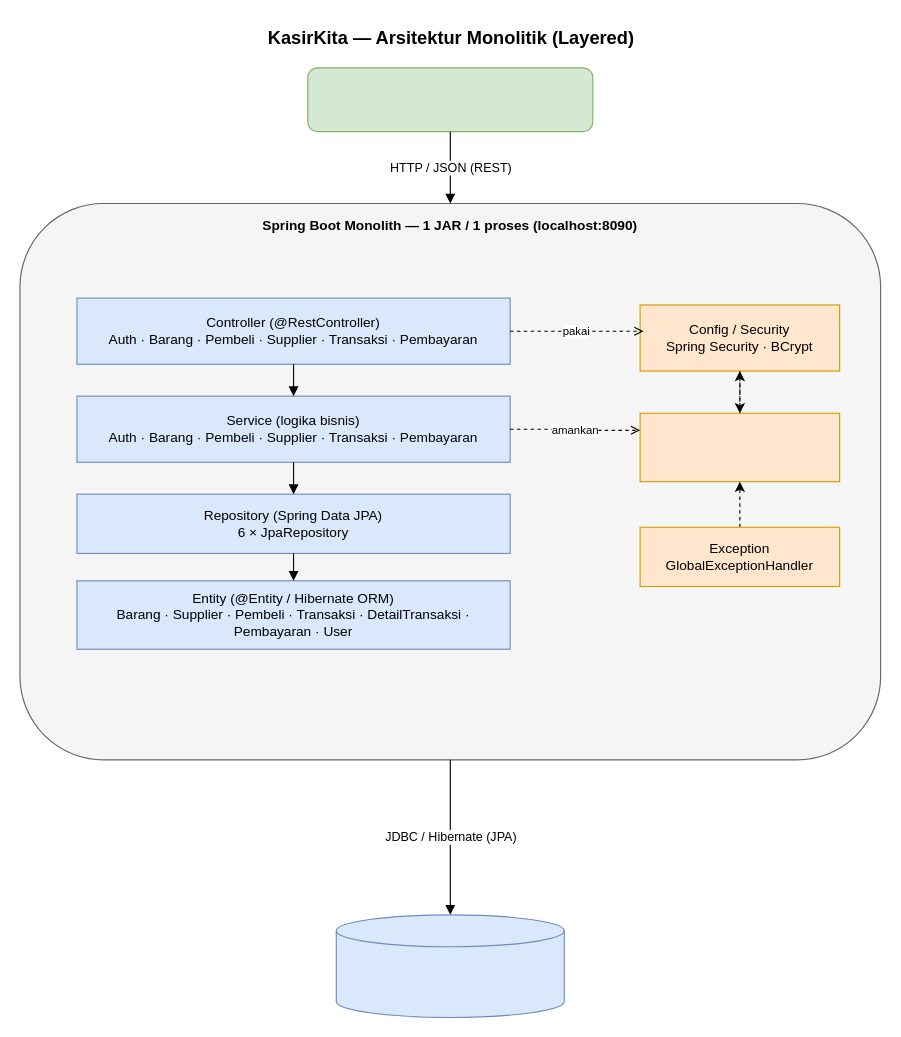
This 901x1037 diagram has some shape labels left out. Here are the shapes that lost their labels. From the top down, the box of each, then its label:
(307, 67, 593, 132): Web Browser static/index.html (HTML + JS, fetch)
(639, 412, 840, 482): DTO request / response (record) + Validation
(335, 914, 564, 1017): MySQL 8 database: kasirkita
